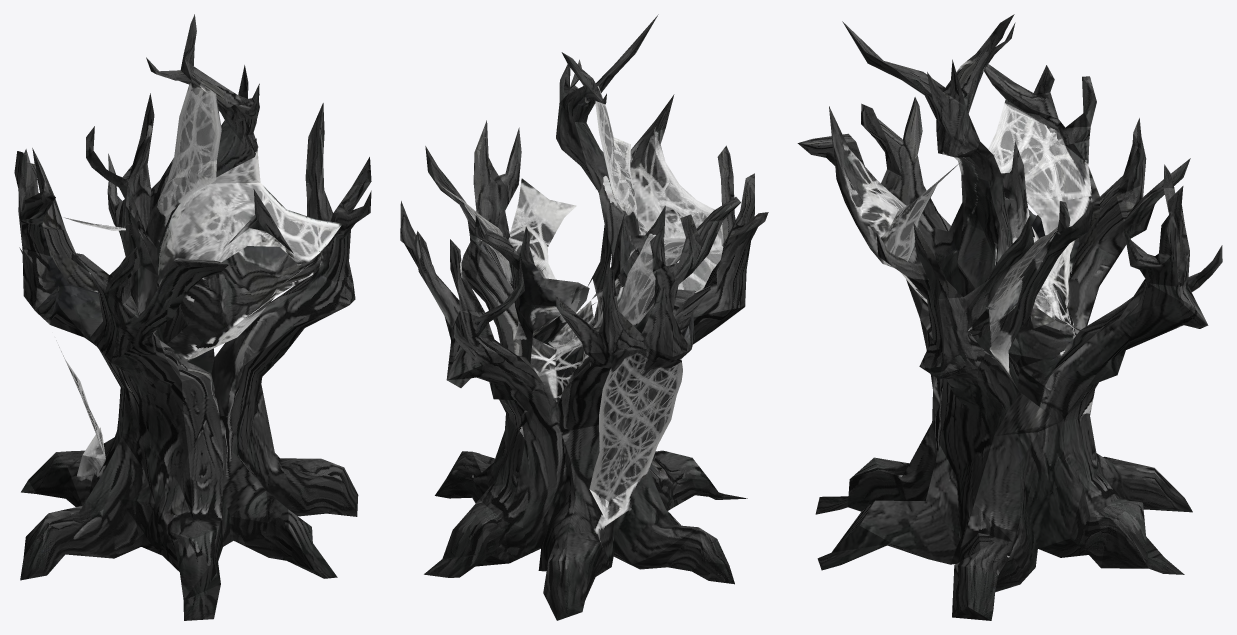
The model's file is web_tree.glb.
3 views of the same model, side by side, from view 1: azimuth 30°, elevation 25°; view 2: azimuth 150°, elevation 25°; view 3: azimuth 270°, elevation 25° (orthographic). The views are drawn at different scales.
Visible parts, largest first — view 1: Mesh; view 2: Mesh; view 3: Mesh.
Part boxes in pixels (bbox=[...]): Mesh: bbox=[14, 14, 371, 620]; Mesh: bbox=[400, 14, 768, 620]; Mesh: bbox=[797, 14, 1222, 620].
Bounding box in the file's own units: 0.6513 × 1 × 0.7102.
Materials: 1 (1 with a texture image).
